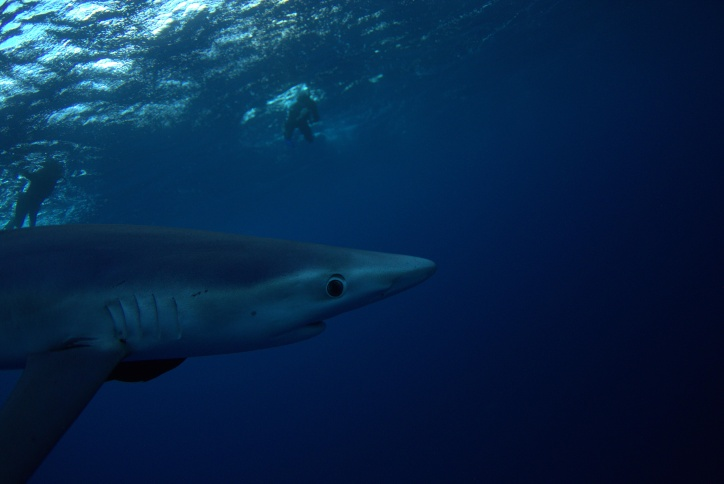Azul: (10, 181, 490, 483)
